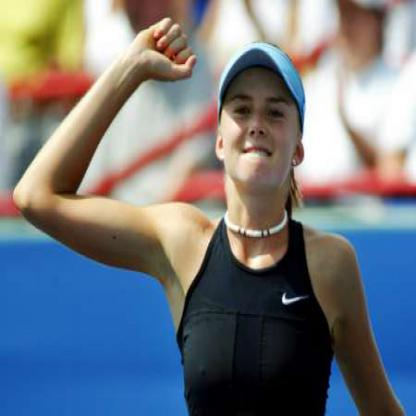face: (221, 44, 301, 195)
